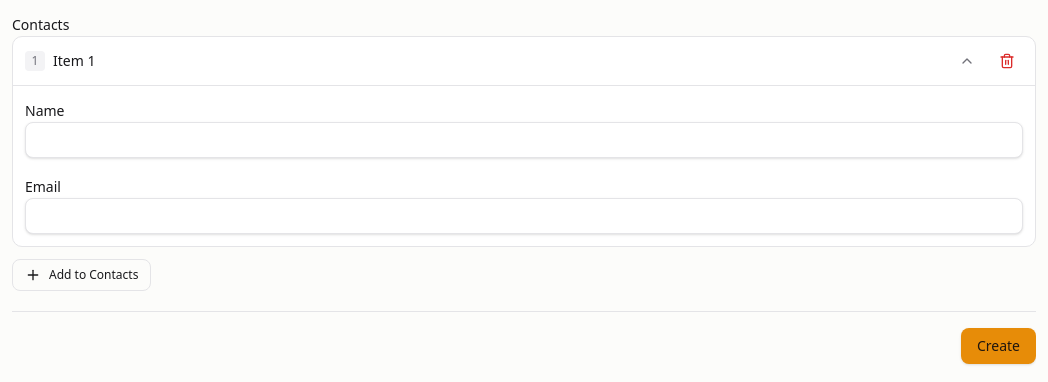
collapsing › hides an item body when collapsed
The width and height of the screenshot is (1048, 382).
Click the button named "Collapse Item 1". click: [967, 61]
box: [951,45,983,77]
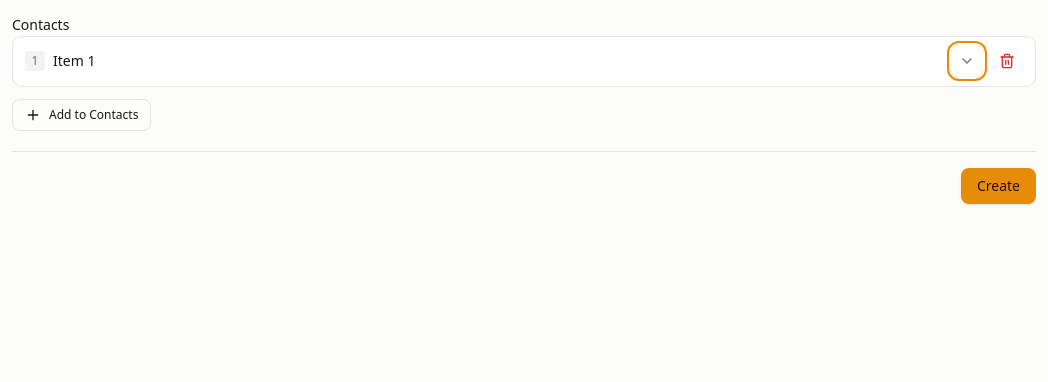
Expected: the label "Name" is gone
